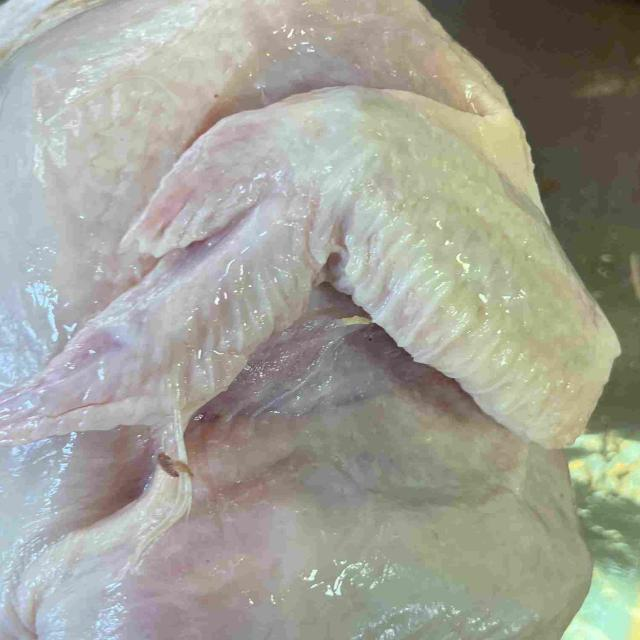breast: (0, 0, 359, 392)
leg: (41, 463, 589, 640)
wing: (0, 87, 620, 472)
